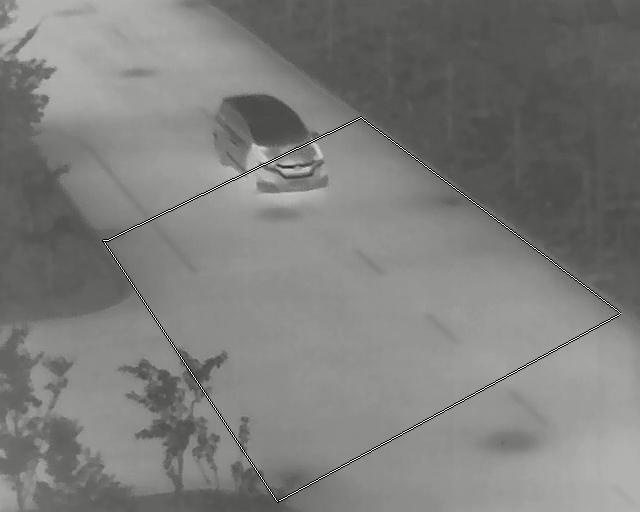vehicle: (213, 95, 330, 193)
